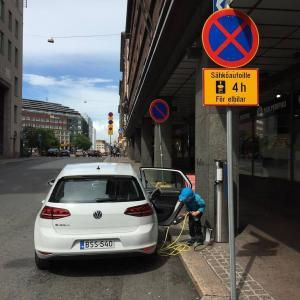Vehicle-registration-plate: (79, 240, 116, 249)
